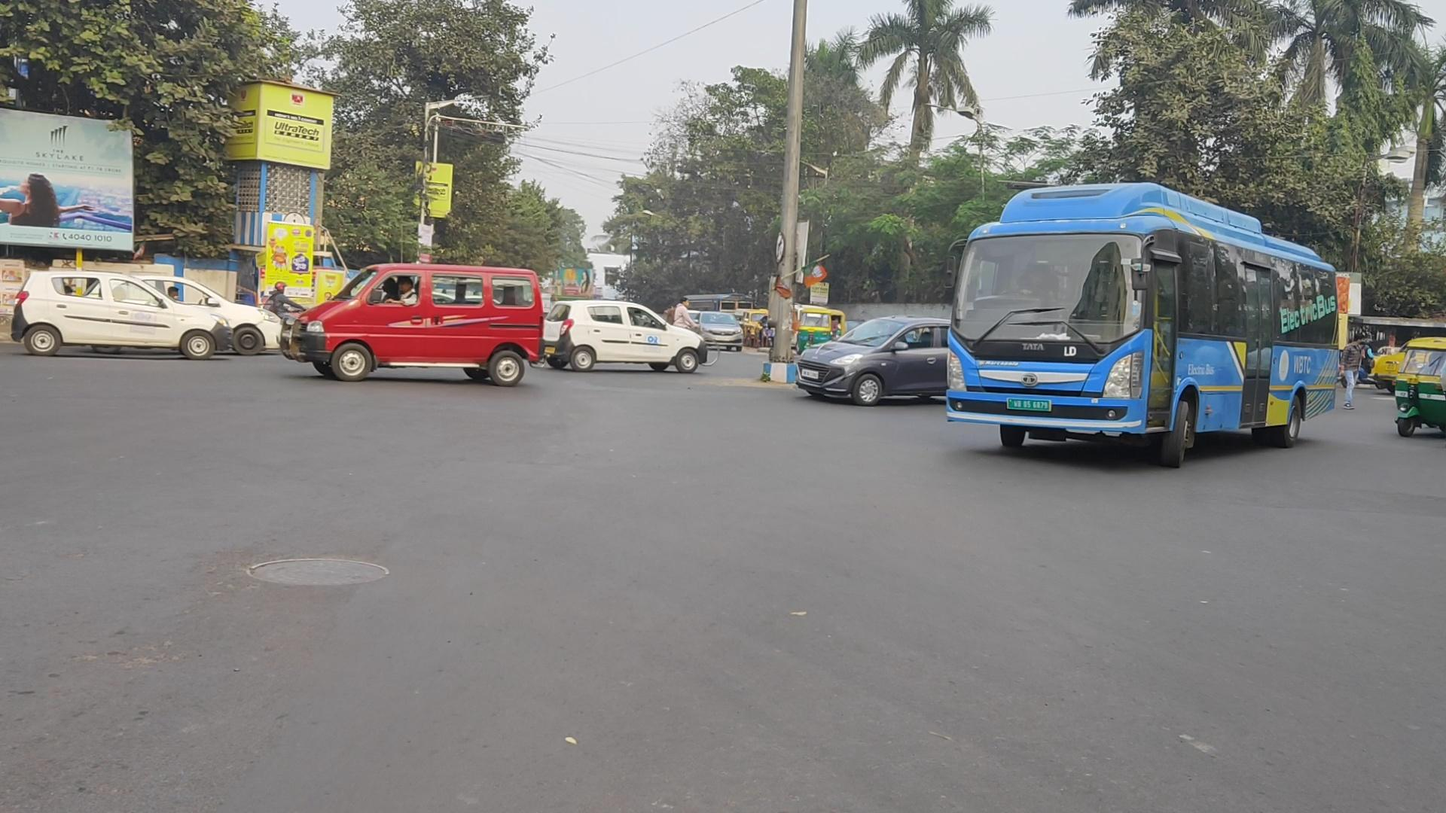Auto: (1393, 339, 1446, 439)
Bus: (944, 181, 1340, 470)
car: (11, 269, 232, 360), (66, 273, 283, 356), (795, 315, 966, 406), (543, 300, 709, 375), (798, 306, 847, 360), (694, 310, 744, 354)
van: (288, 262, 545, 387)
